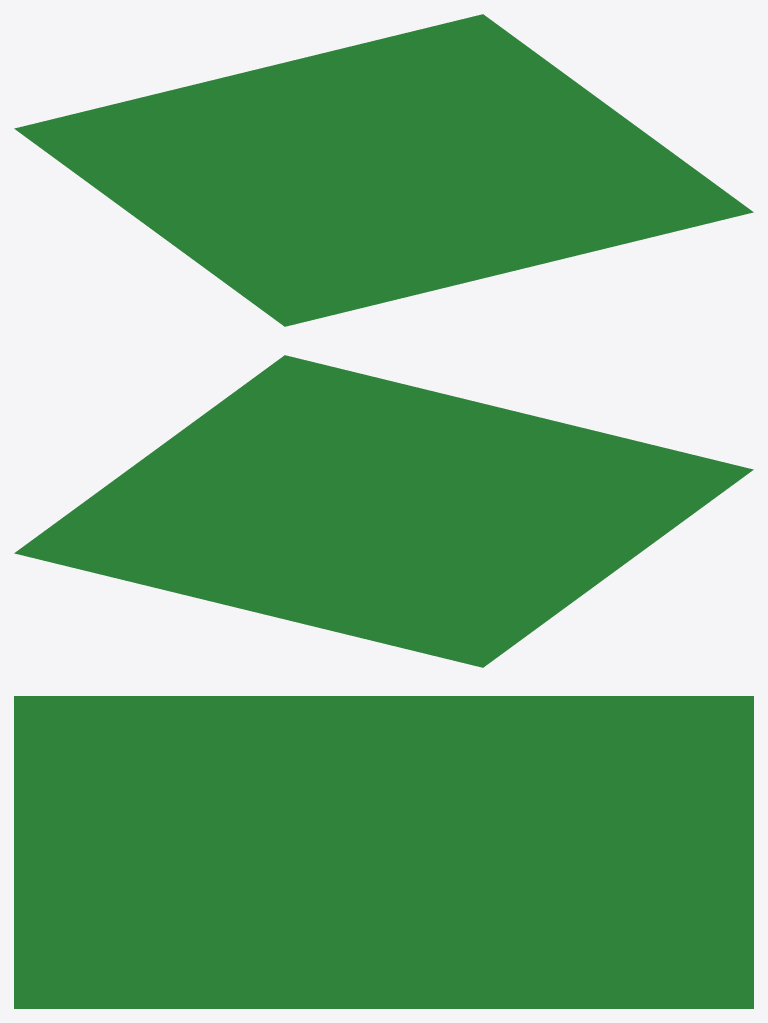
Rendered from BoarderedGamefield.fbx.
3 renders of one model, top to bottom at view 1: azimuth 30°, elevation 25°; view 2: azimuth 150°, elevation 25°; view 3: azimuth 270°, elevation 25°, orthographic. The views are drawn at different scales.
Visible parts, largest first — view 1: Border1, Playfield_v2; view 2: Border1, Playfield_v2; view 3: Border1, Playfield_v2.
Boxes of the visible parts, box(x1,y1,x2,y2) form: Border1: box(14, 14, 753, 326); Playfield_v2: box(238, 102, 529, 238); Border1: box(14, 355, 753, 667); Playfield_v2: box(238, 443, 529, 579); Border1: box(14, 696, 753, 1008); Playfield_v2: box(199, 800, 568, 904).
Size of the model in its own units: 48 by 5.33e-27 by 48.
